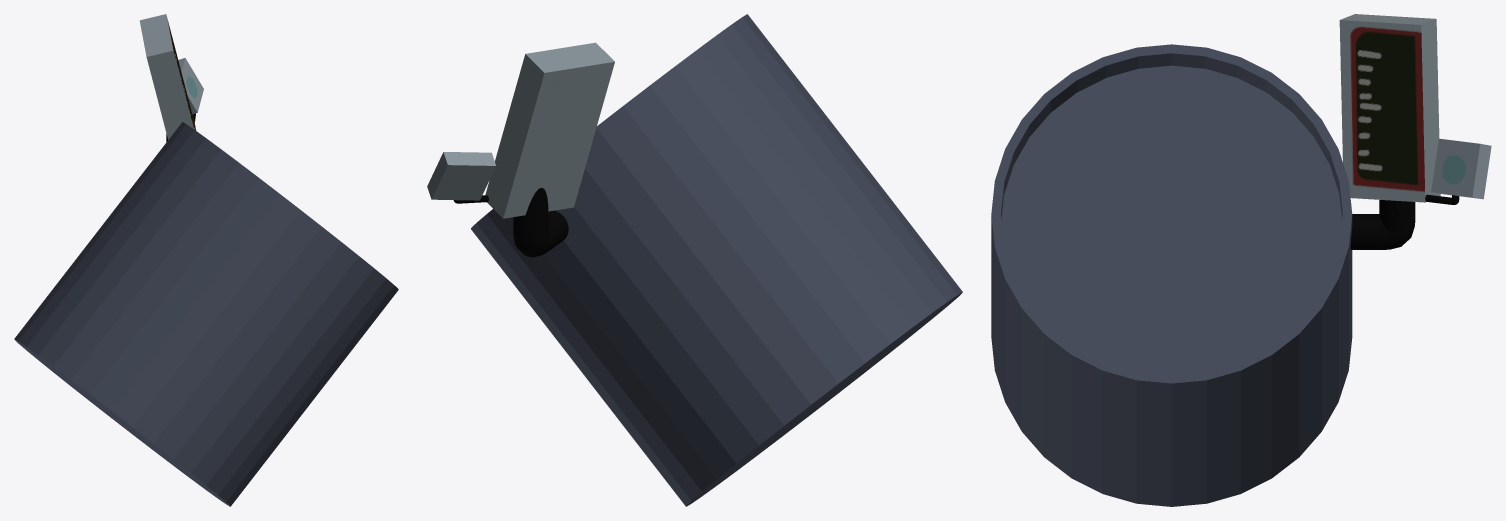
File: Engine-gas.glb
3 renders of one model, left to right at view 1: azimuth 30°, elevation 25°; view 2: azimuth 150°, elevation 25°; view 3: azimuth 270°, elevation 25°, orthographic. The views are drawn at different scales.
Visible parts, largest first — view 1: Cylinder.001; view 2: Cylinder.001; view 3: Cylinder.001.
Part boxes in pixels (x1=…): Cylinder.001: x1=14, y1=14, x2=398, y2=506; Cylinder.001: x1=427, y1=14, x2=962, y2=506; Cylinder.001: x1=991, y1=14, x2=1491, y2=506.
Bounding box in the file's own units: 2.83 × 3.16 × 2.77.
1 material, 1 textured.
